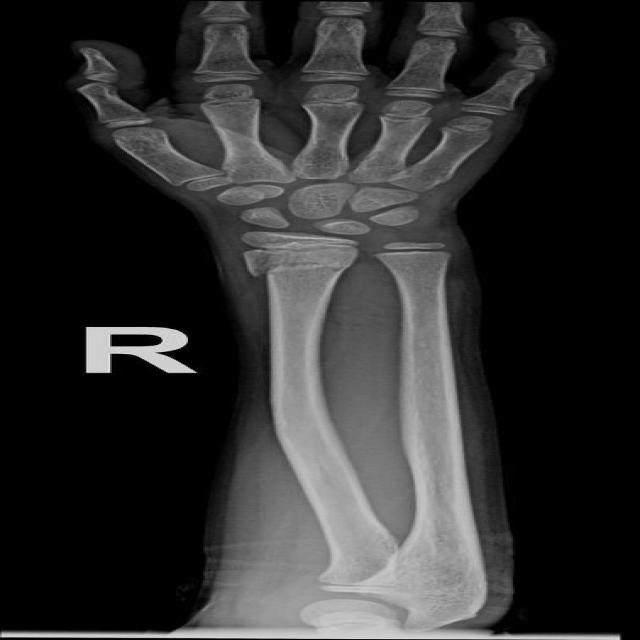fracture: (242, 260, 352, 280)
